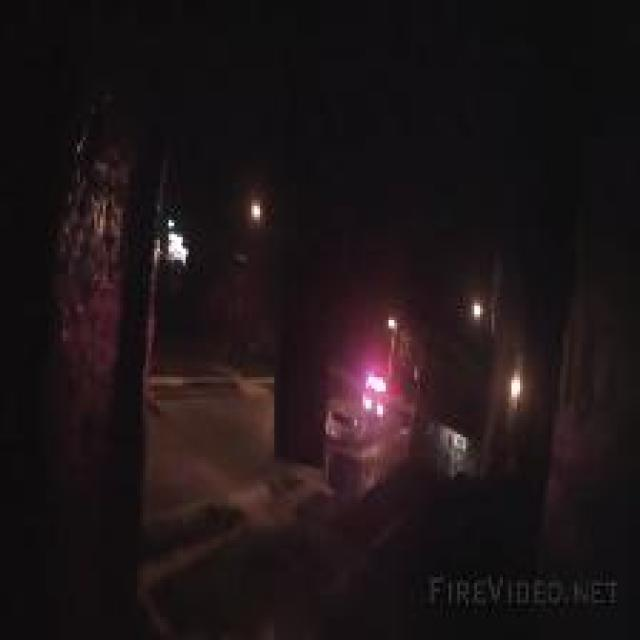other: (335, 312, 400, 435), (488, 363, 526, 412), (233, 192, 270, 234), (463, 290, 489, 344)
